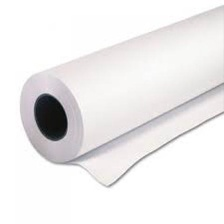tissue: (12, 0, 224, 192)
